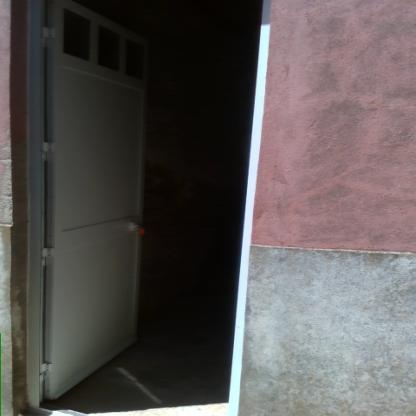open: (8, 0, 265, 416)
